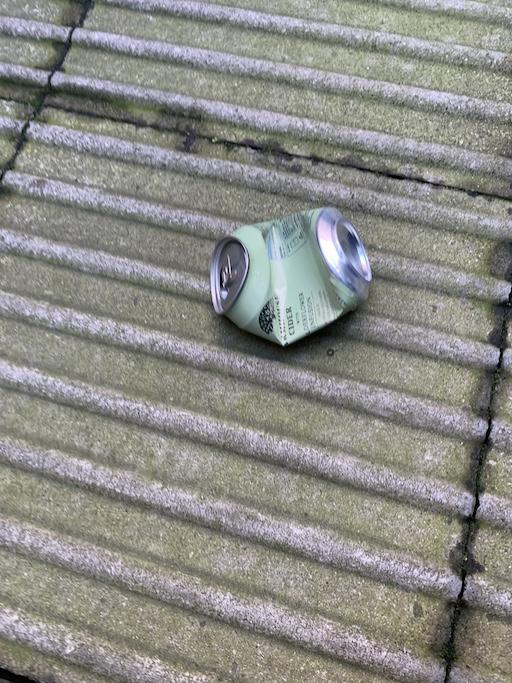Aluminum can: (204, 198, 380, 350)
